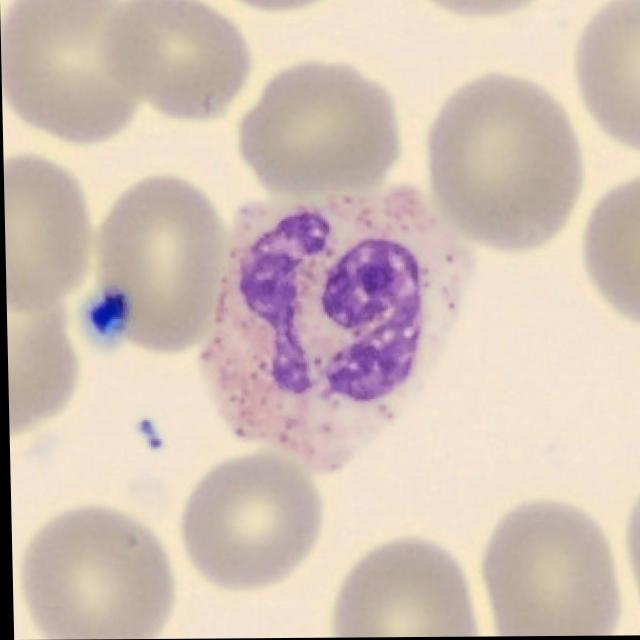Neutrofilo segmentado: (197, 184, 471, 454)
